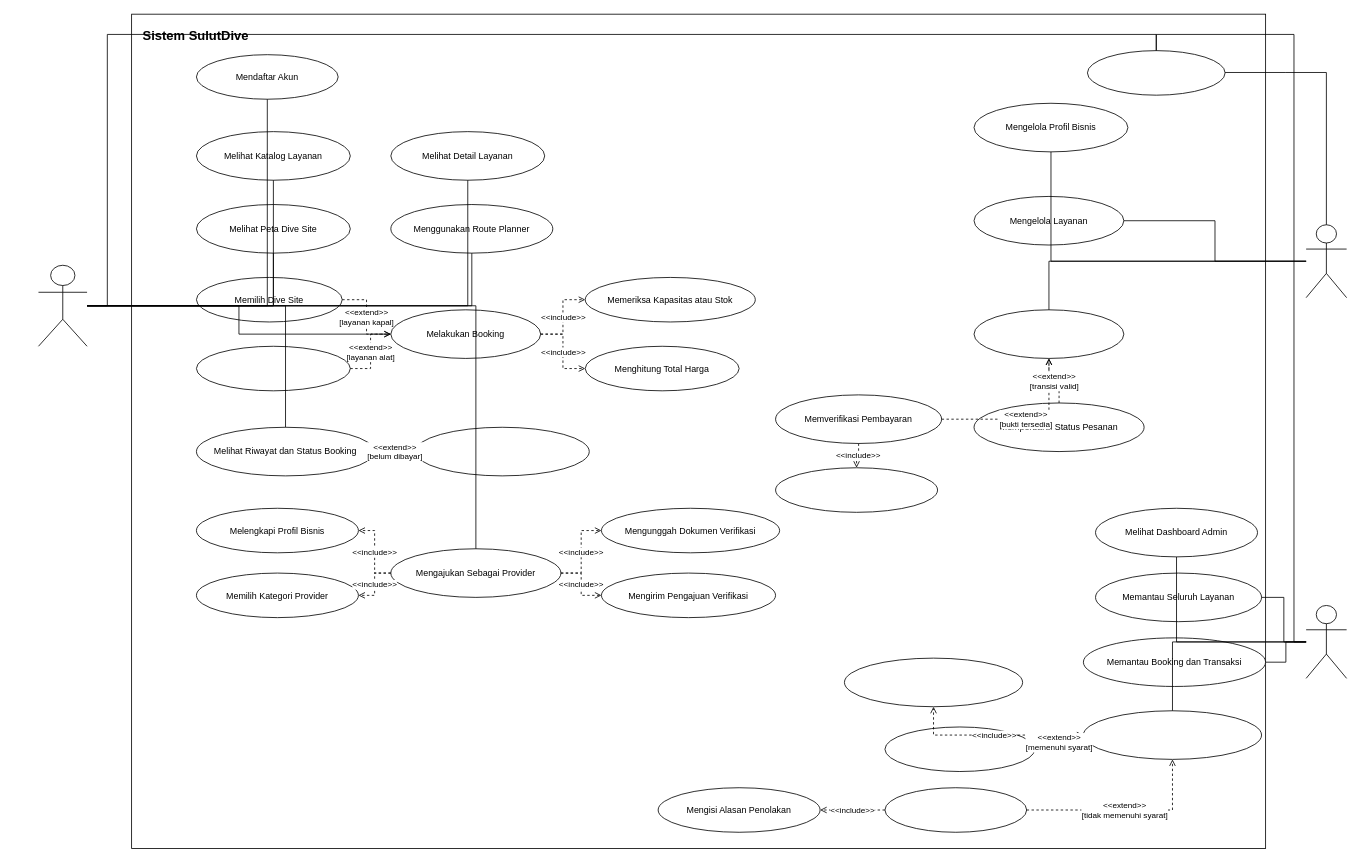
Some shapes in this 1361 by 863 pixel diagram are drawn without their labels. Here are the shapes that lost their labels. From the top down, the centre of each, then its label:
At point 1156,72: "Login".
At point 1326,261: "Provider".
At point 62,305: "Customer / Wisatawan".
At point 1048,333: "Mengelola Pesanan".
At point 273,368: "Menentukan Durasi Sewa".
At point 501,451: "Mengunggah Bukti Pembayaran".
At point 856,489: "Melihat Bukti Pembayaran".
At point 1326,641: "Admin".
At point 933,682: "Melihat Checklist dan Dokumen".
At point 959,749: "Menyetujui Provider".
At point 1172,734: "Memeriksa Pengajuan Provider".
At point 955,809: "Menolak Provider".
